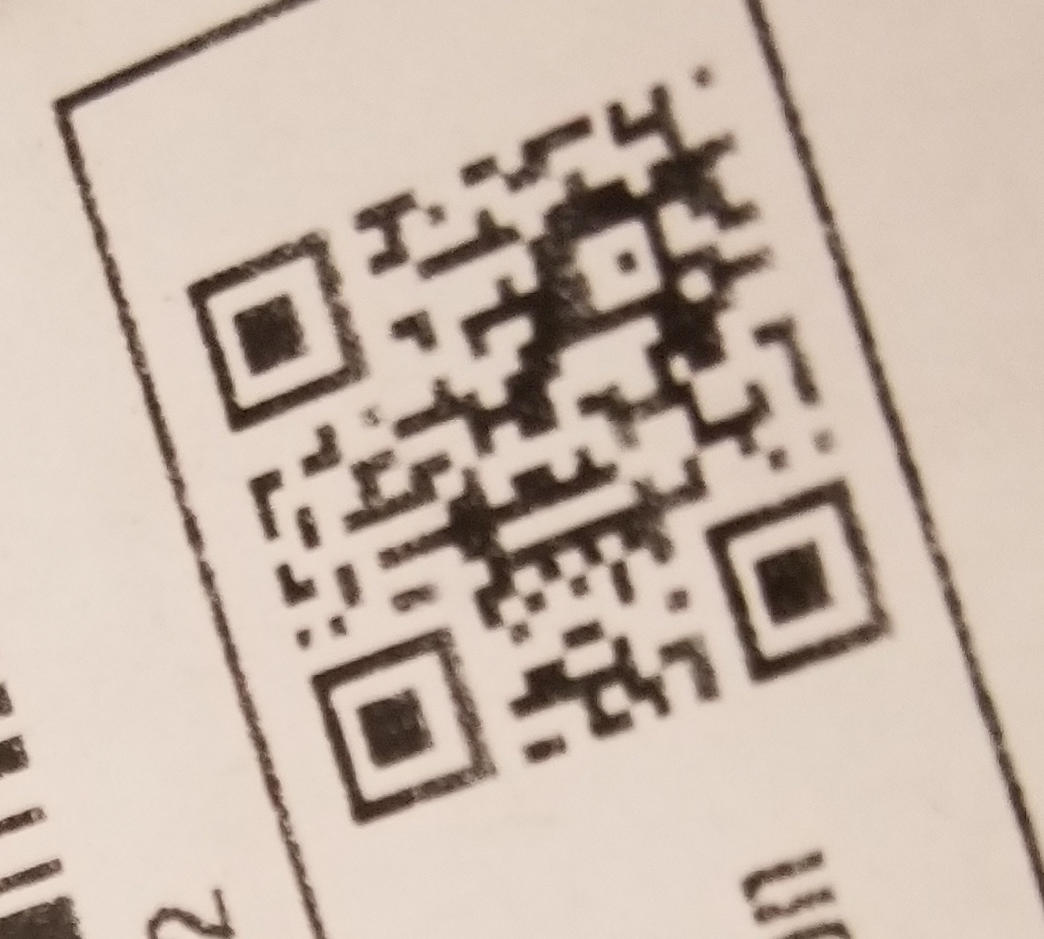QR_CODE: (167, 46, 915, 836)
